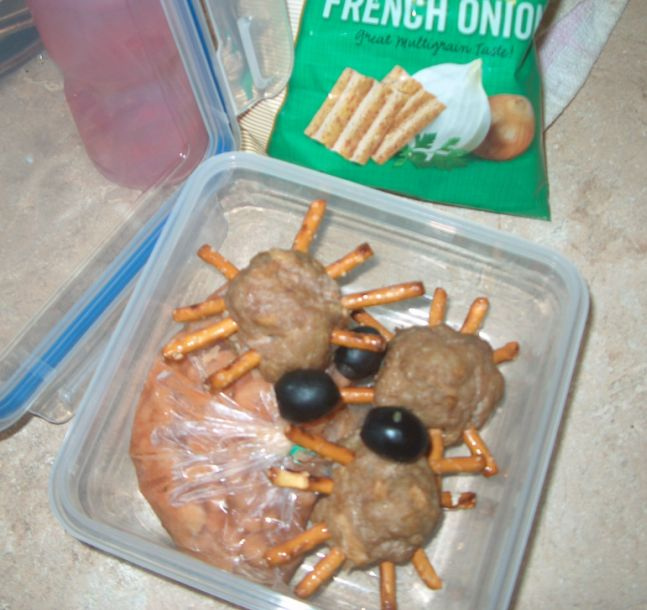meatballs: (330, 441, 441, 563), (226, 264, 338, 369), (377, 340, 499, 420)
